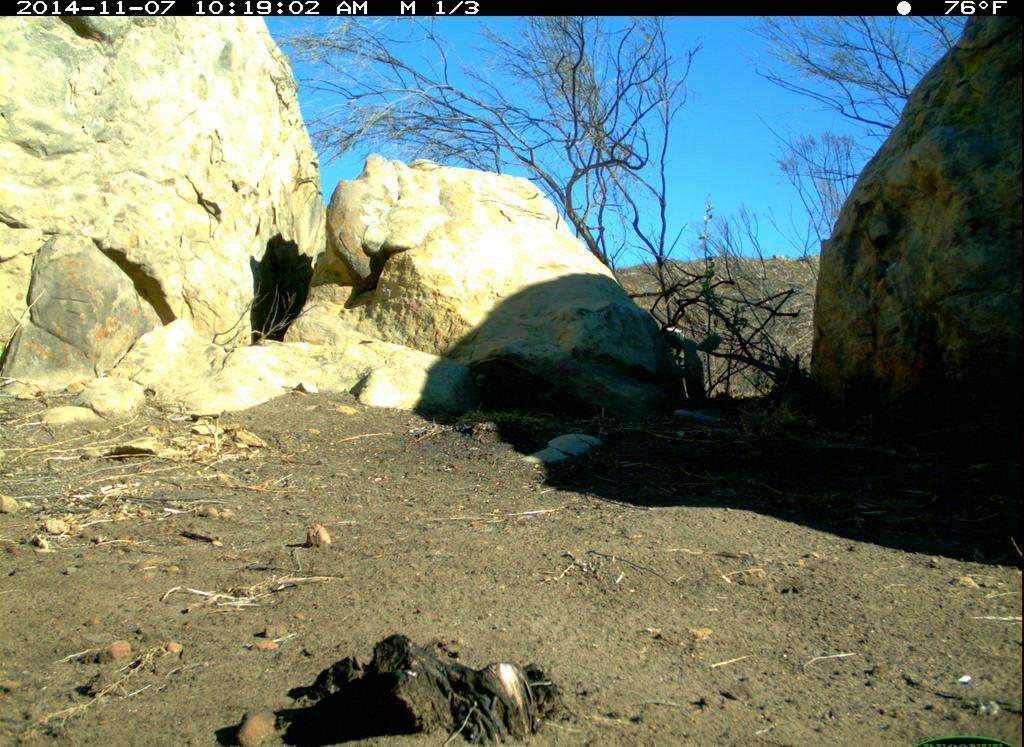rabbit: (639, 296, 752, 423)
